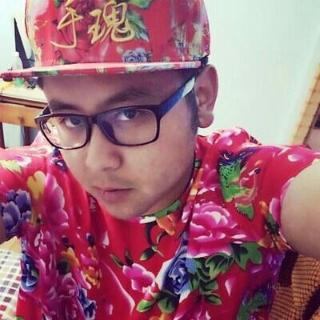short sleeve top: (1, 126, 319, 319)
